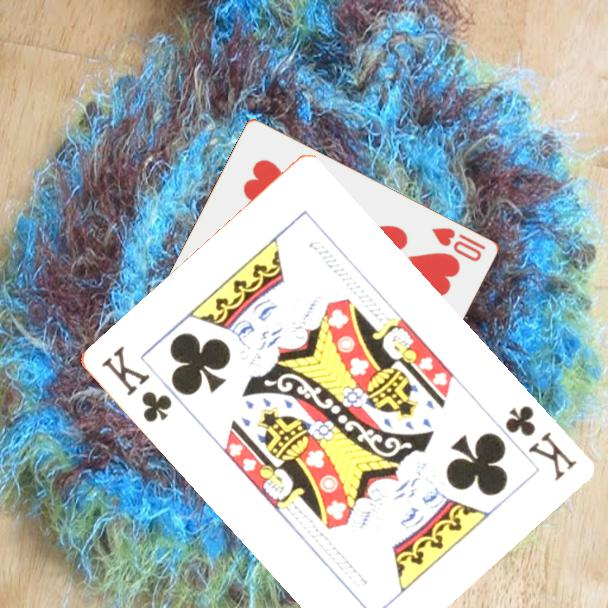c13: (96, 342, 175, 426), (501, 401, 579, 484)
h10: (428, 224, 489, 264)
